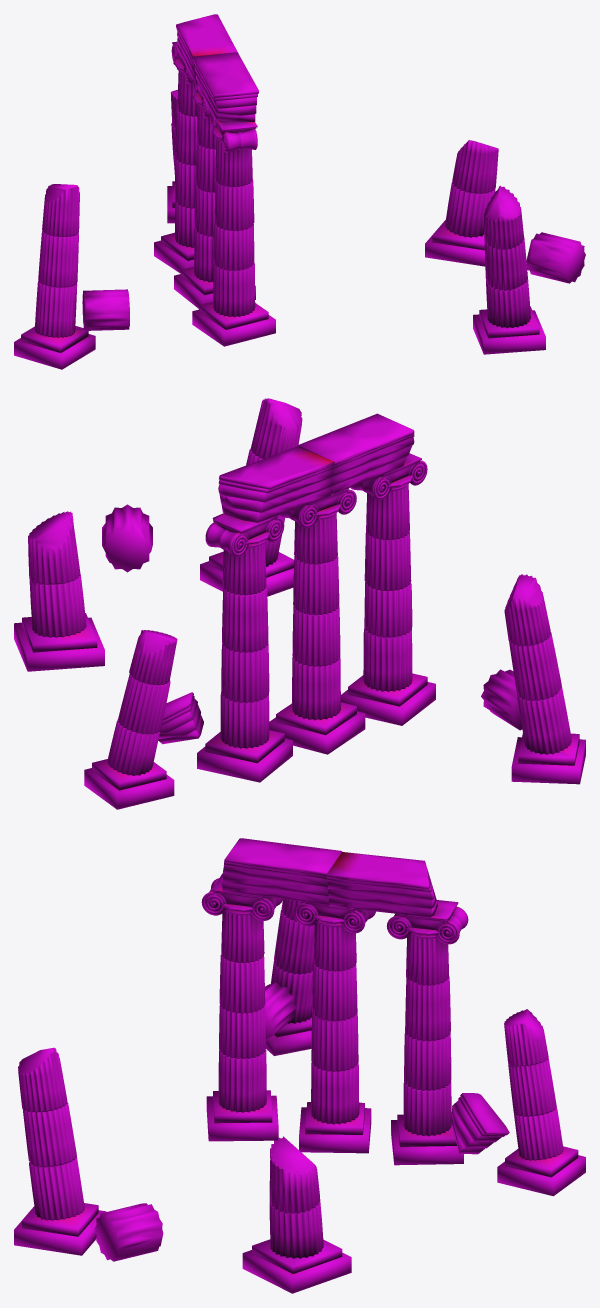
File: near_cols.glb
3 renders of one model, top to bottom at view 1: azimuth 30°, elevation 25°; view 2: azimuth 150°, elevation 25°; view 3: azimuth 270°, elevation 25°, orthographic. The views are drawn at different scales.
Parts seen in each view (by area): view 1: marble; view 2: marble; view 3: marble.
Boxes of the visible parts, x1=… form: marble: x1=14, y1=14, x2=585, y2=369; marble: x1=14, y1=398, x2=585, y2=809; marble: x1=14, y1=838, x2=585, y2=1293.
Bounding box in the file's own units: 7.57 × 3.56 × 6.64.
